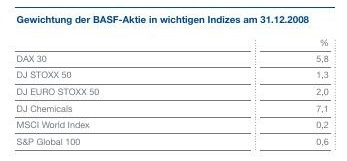table: (0, 0, 347, 161)
